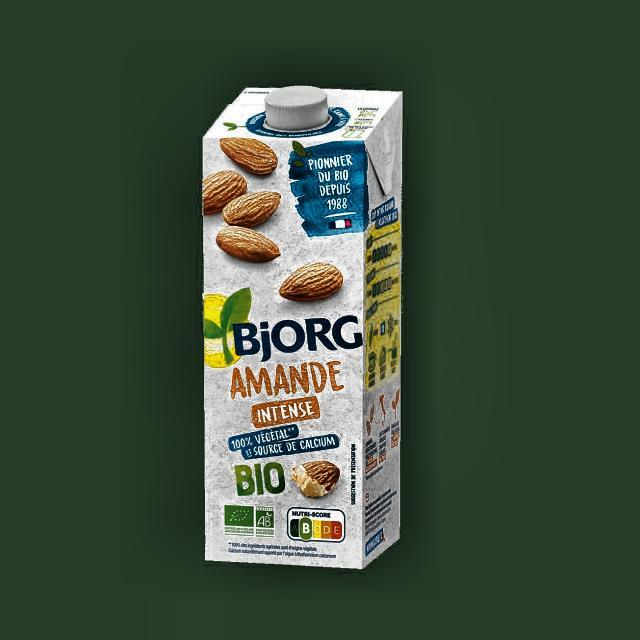cardboard: (202, 85, 404, 569)
